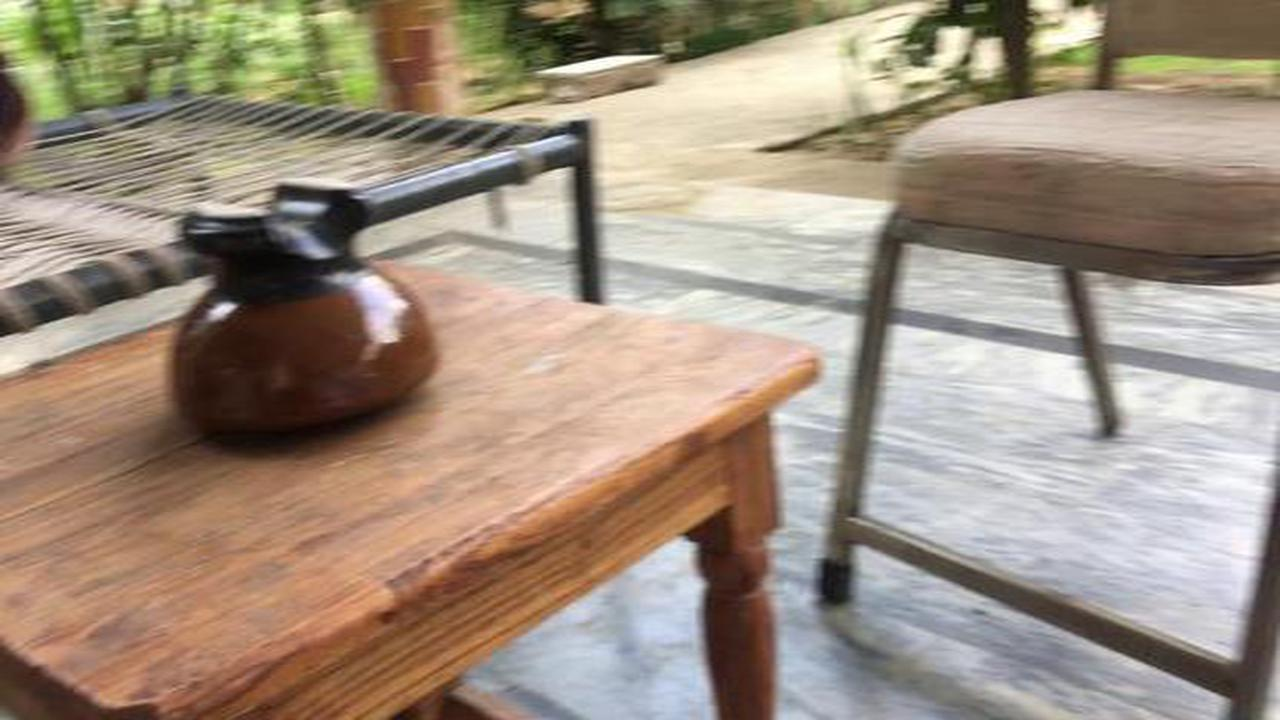insulator_pin: (151, 158, 444, 466)
